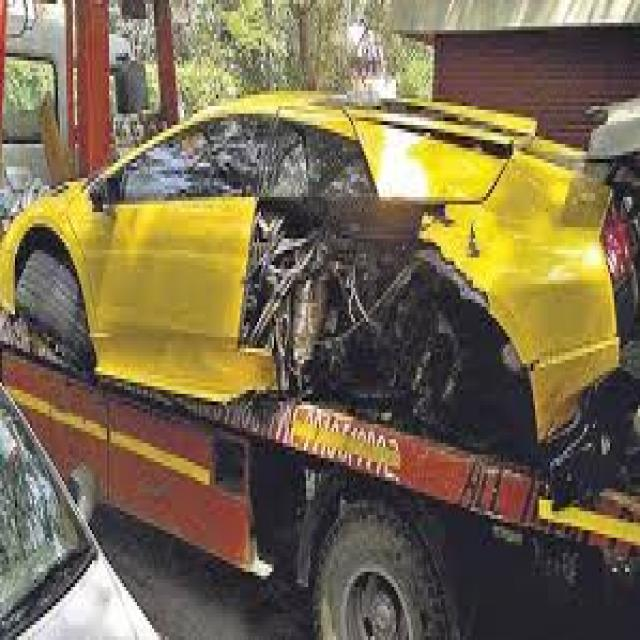severe: (219, 118, 614, 510)
